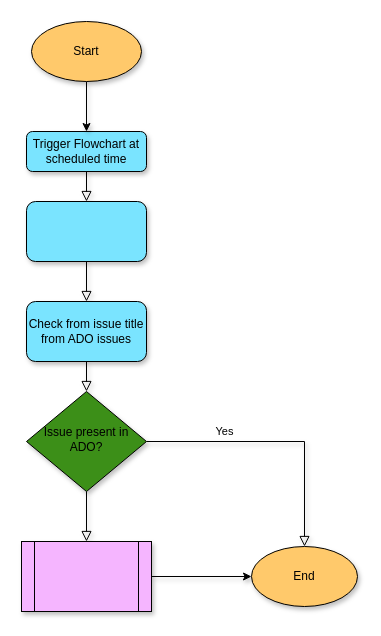
The diagram is 381 pixels wide and 636 high, and some of its shapes have lost their labels. The shapes that lost their labels are listed below. From the top down, each one's centre as x and y in pixels, then its label:
At point (87, 232): "Get the issues from Github with office and outlook labels".
At point (87, 577): "Go through existing pipeline And follow all the process to add in ADO".
